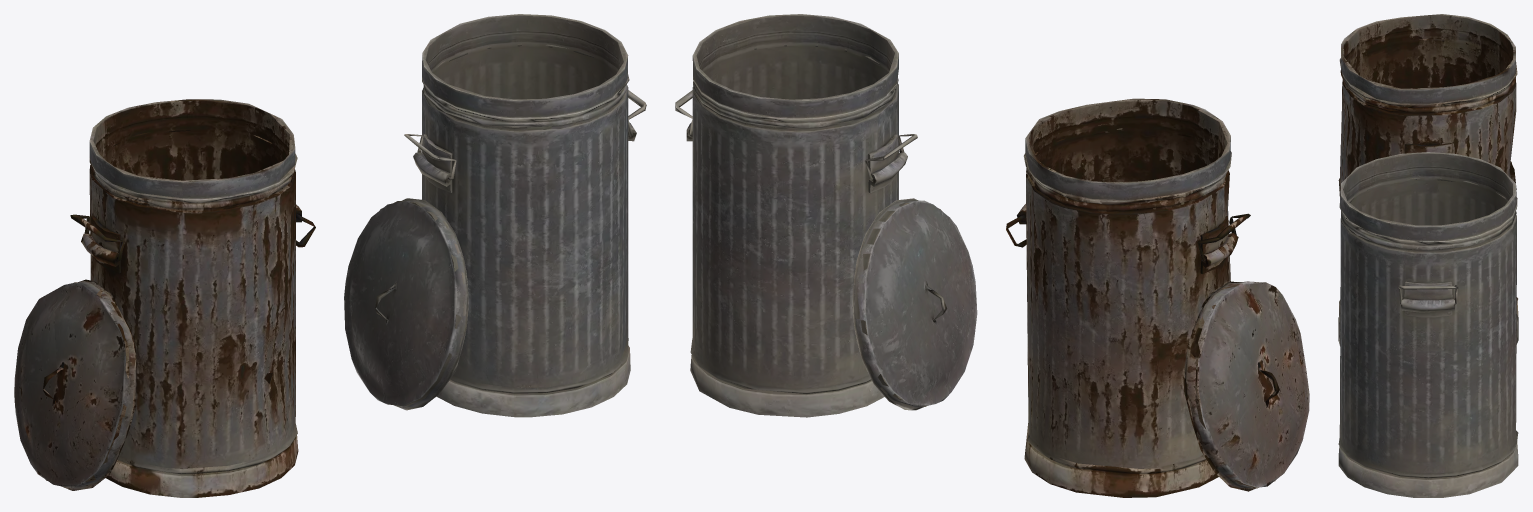
File: metal_trash_can.glb
3 renders of one model, left to right at view 1: azimuth 30°, elevation 25°; view 2: azimuth 150°, elevation 25°; view 3: azimuth 270°, elevation 25°, orthographic. The views are drawn at different scales.
Parts seen in each view (by area): view 1: metal_trash_can_handle_left, metal_trash_can_rust; view 2: metal_trash_can_handle_left, metal_trash_can_rust; view 3: metal_trash_can_handle_left, metal_trash_can_rust.
Boxes of the visible parts, box(x1,y1,x2,y2) form: metal_trash_can_handle_left: box(344, 14, 646, 417); metal_trash_can_rust: box(14, 99, 315, 497); metal_trash_can_handle_left: box(675, 14, 977, 417); metal_trash_can_rust: box(1006, 98, 1309, 497); metal_trash_can_handle_left: box(1338, 152, 1518, 497); metal_trash_can_rust: box(1338, 14, 1518, 317).
Bounding box in the file's own units: 1.78 × 0.9062 × 0.5476.
2 materials, 2 textured.
